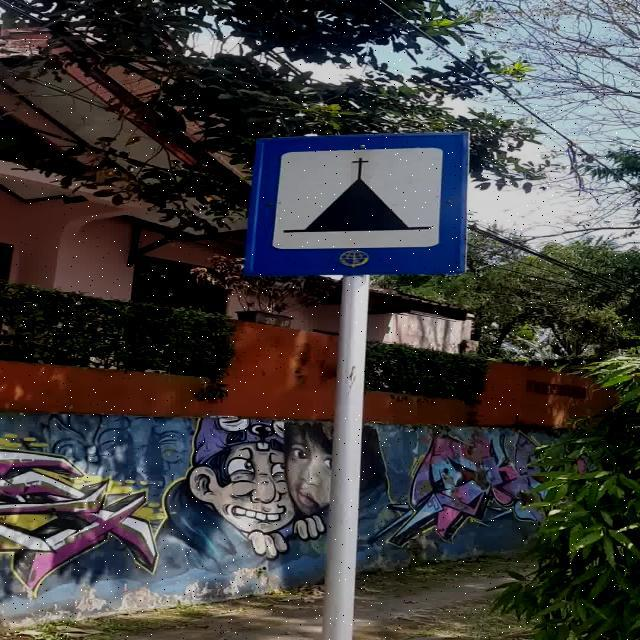Gereja: (244, 132, 470, 276)
